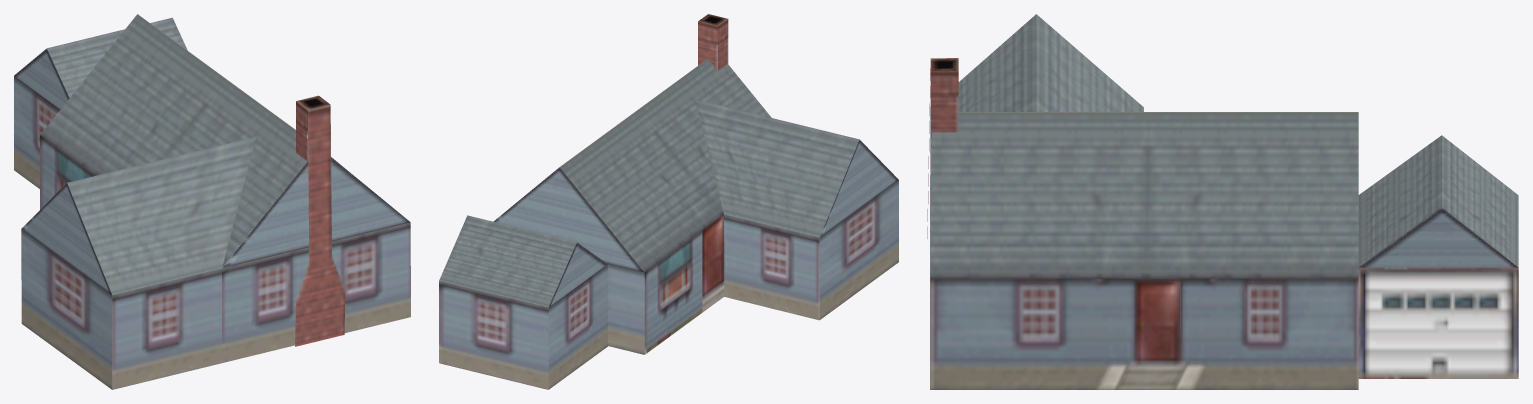
File: house06.glb
3 renders of one model, left to right at view 1: azimuth 30°, elevation 25°; view 2: azimuth 150°, elevation 25°; view 3: azimuth 270°, elevation 25°, orthographic. The views are drawn at different scales.
Parts seen in each view (by area): view 1: house06; view 2: house06; view 3: house06.
Part boxes in pixels (x1,y1,x2,y2): house06: (14, 14, 410, 389); house06: (439, 14, 898, 389); house06: (927, 14, 1518, 389).
Size of the model in its own units: 1610 by 1203 by 2349.
3 materials, 3 textured.
